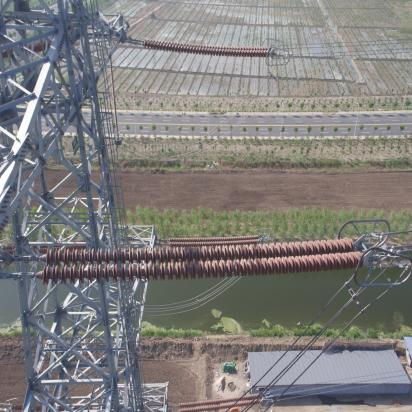insulator: (14, 231, 371, 286), (137, 35, 274, 62), (164, 235, 262, 247)
